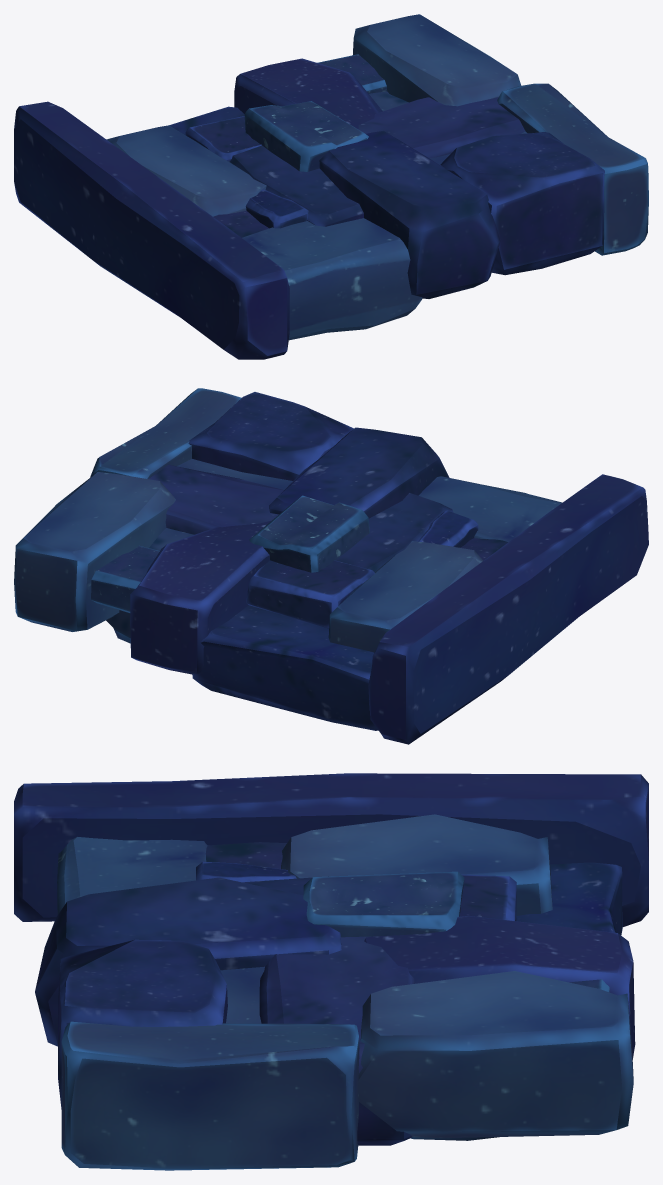
The model's file is msh_stone Foothold4.fbx.
The picture shows the model from 3 angles, top to bottom: view 1: azimuth 30°, elevation 25°; view 2: azimuth 150°, elevation 25°; view 3: azimuth 270°, elevation 25°; orthographic projection. The views are drawn at different scales.
Parts seen in each view (by area): view 1: Box065; view 2: Box065; view 3: Box065.
Boxes of the visible parts, x1,y1,x2,y2 form: Box065: (14, 14, 648, 359); Box065: (14, 388, 648, 744); Box065: (14, 773, 648, 1170).
Size of the model in its own units: 431 by 123 by 399.
